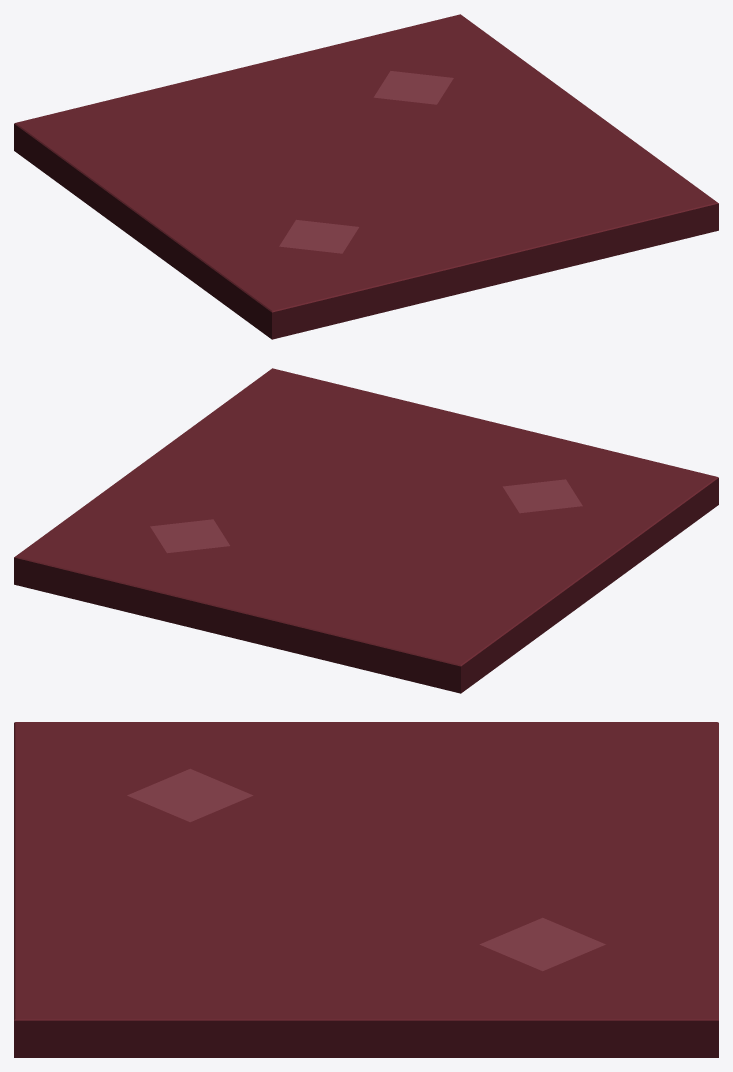
File: boden_kinoteppich_b.glb
3 renders of one model, top to bottom at view 1: azimuth 30°, elevation 25°; view 2: azimuth 150°, elevation 25°; view 3: azimuth 270°, elevation 25°, orthographic. The views are drawn at different scales.
Visible parts, largest first — view 1: boden_kinoteppich_b; view 2: boden_kinoteppich_b; view 3: boden_kinoteppich_b.
Boxes of the visible parts, bbox=[...] form: boden_kinoteppich_b: bbox=[14, 14, 718, 339]; boden_kinoteppich_b: bbox=[14, 368, 718, 693]; boden_kinoteppich_b: bbox=[14, 722, 718, 1057].
Bounding box in the file's own units: 1 × 0.0608 × 1.
